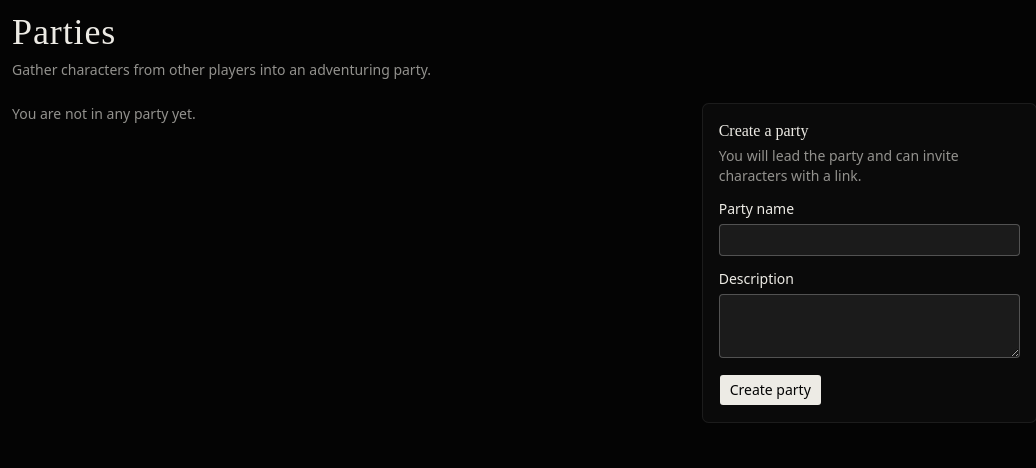
Test case: PartiesRoute › validates and creates a party
Later steps or results of the test are not shown.
Click the button "Create party" at (770, 390), box [719,374,822,406]
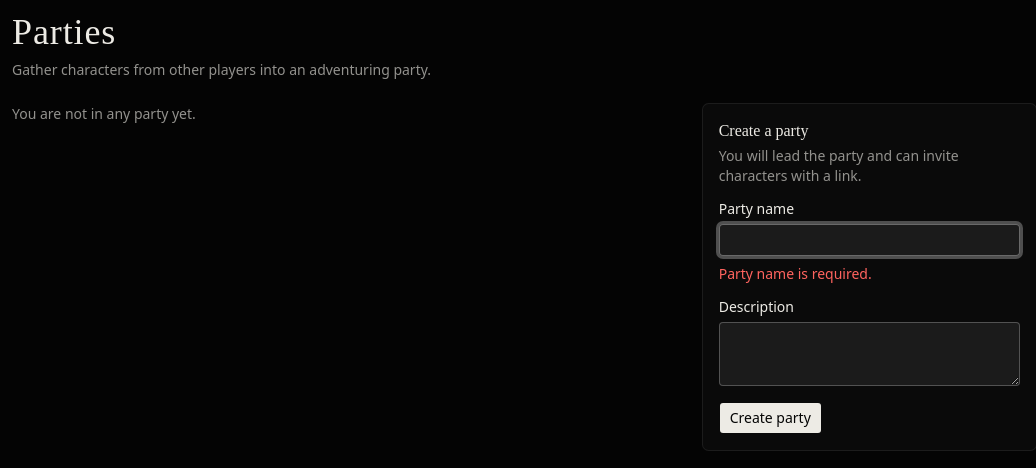
expect the text "Party name is required." is shown: met, box [719,264,872,283]
